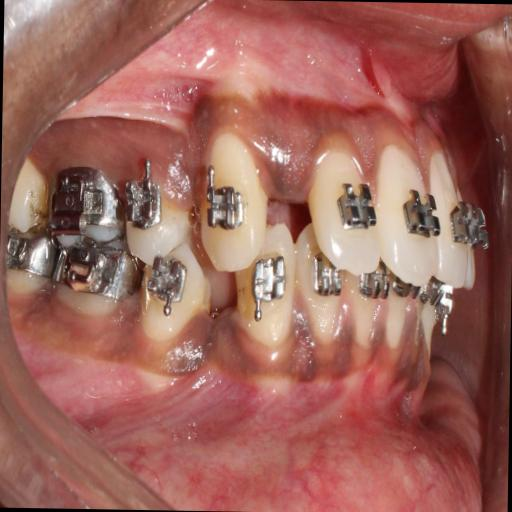correct_brace: (123, 180, 189, 268), (203, 176, 249, 238), (334, 180, 378, 233), (400, 187, 438, 243)
incorrect_brace: (309, 145, 380, 281), (124, 176, 168, 232)
